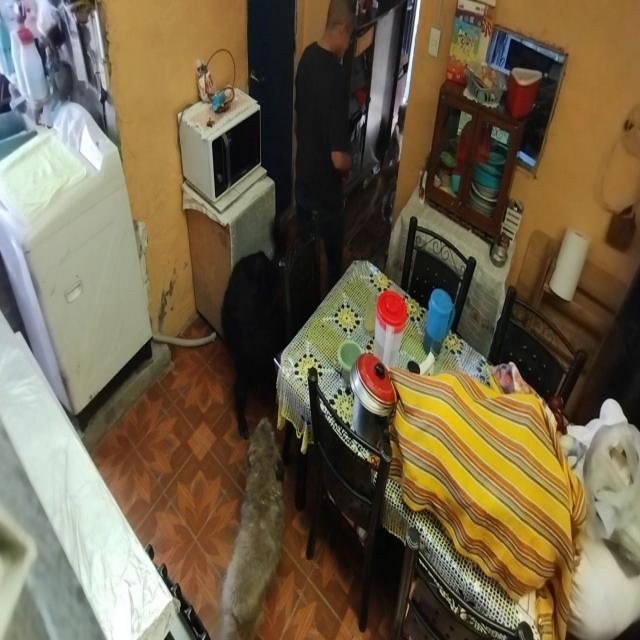adult: (289, 0, 357, 336)
